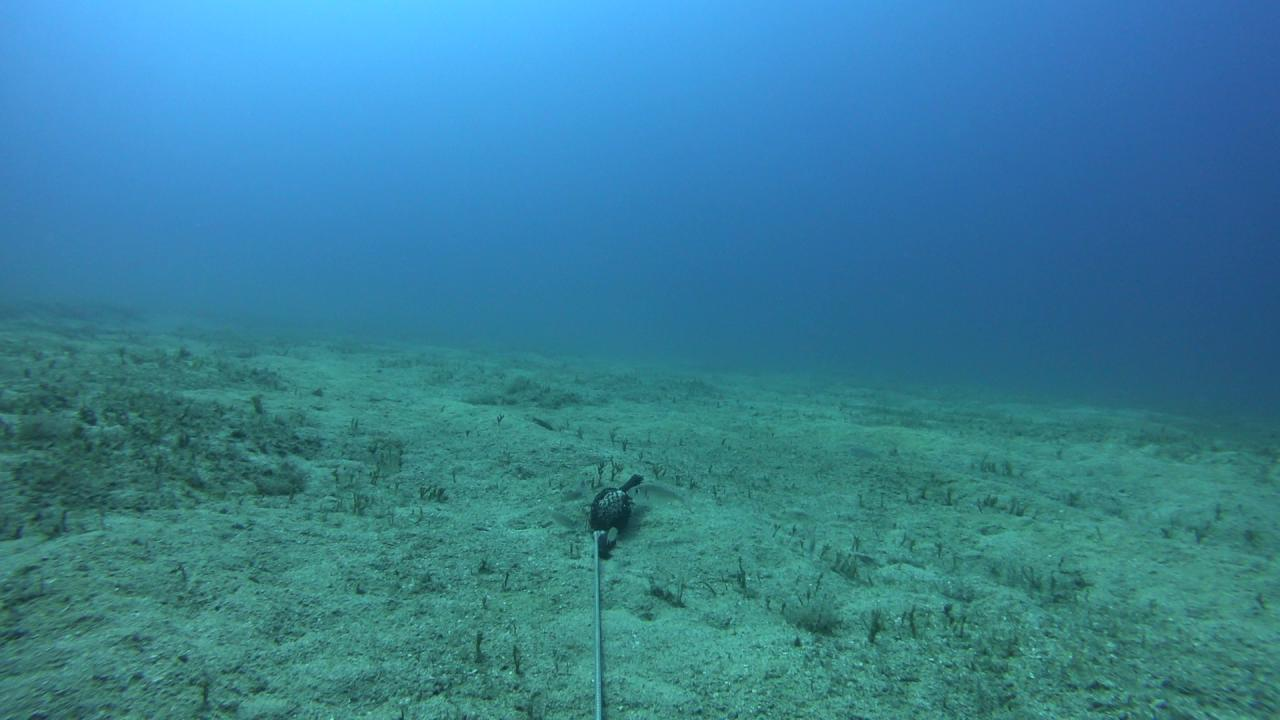pagellus: (626, 484, 694, 513), (549, 511, 583, 533)
